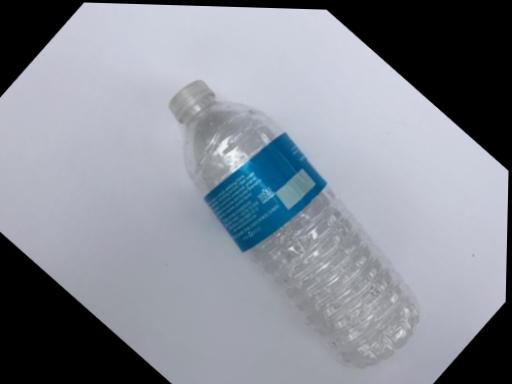plastic: (93, 80, 481, 381)
